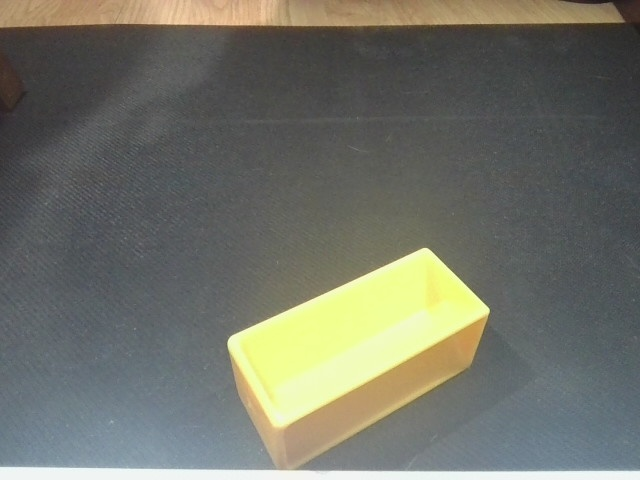YellowSample: (219, 243, 494, 468)
